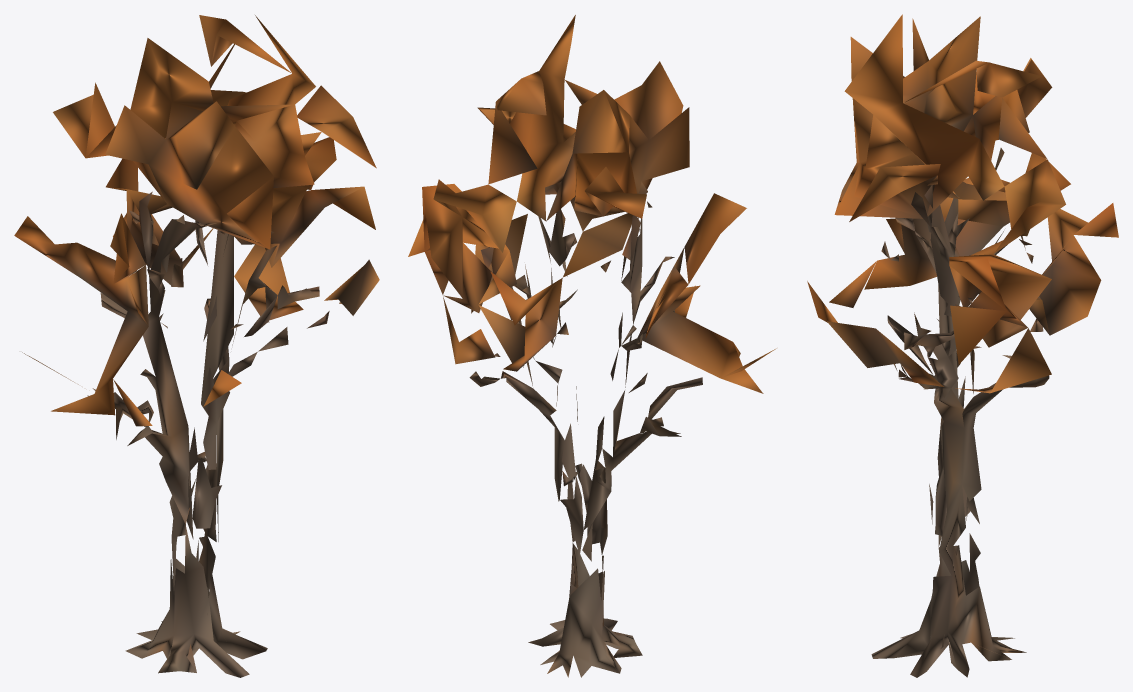
The model's file is ginkgo_b_l1.glb.
3 renders of one model, left to right at view 1: azimuth 30°, elevation 25°; view 2: azimuth 150°, elevation 25°; view 3: azimuth 270°, elevation 25°, orthographic. The views are drawn at different scales.
Visible parts, largest first — view 1: crown, trunk; view 2: crown, trunk; view 3: crown, trunk.
Boxes of the visible parts, x1=… form: crown: x1=14, y1=15, x2=379, y2=426; trunk: x1=87, y1=191, x2=341, y2=677; crown: x1=408, y1=15, x2=776, y2=393; trunk: x1=469, y1=181, x2=702, y2=677; crown: x1=807, y1=14, x2=1118, y2=393; trunk: x1=871, y1=148, x2=1049, y2=677.
Size of the model in its own units: 7.12 by 11.78 by 5.05.
